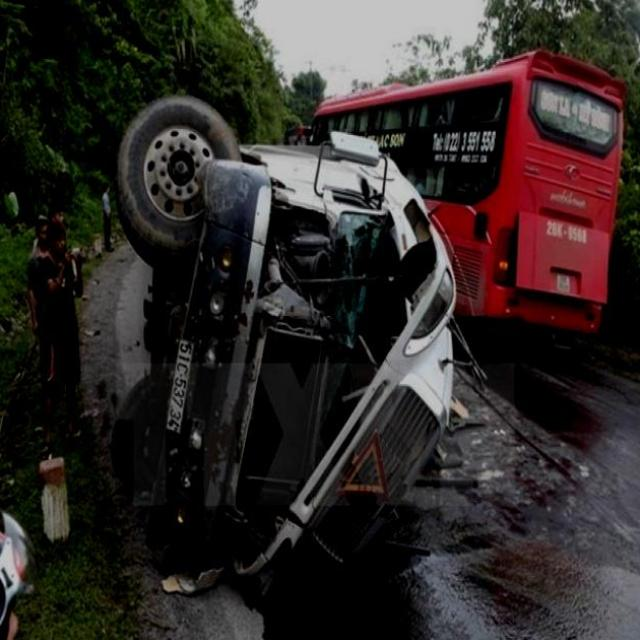accident: (92, 56, 489, 614)
